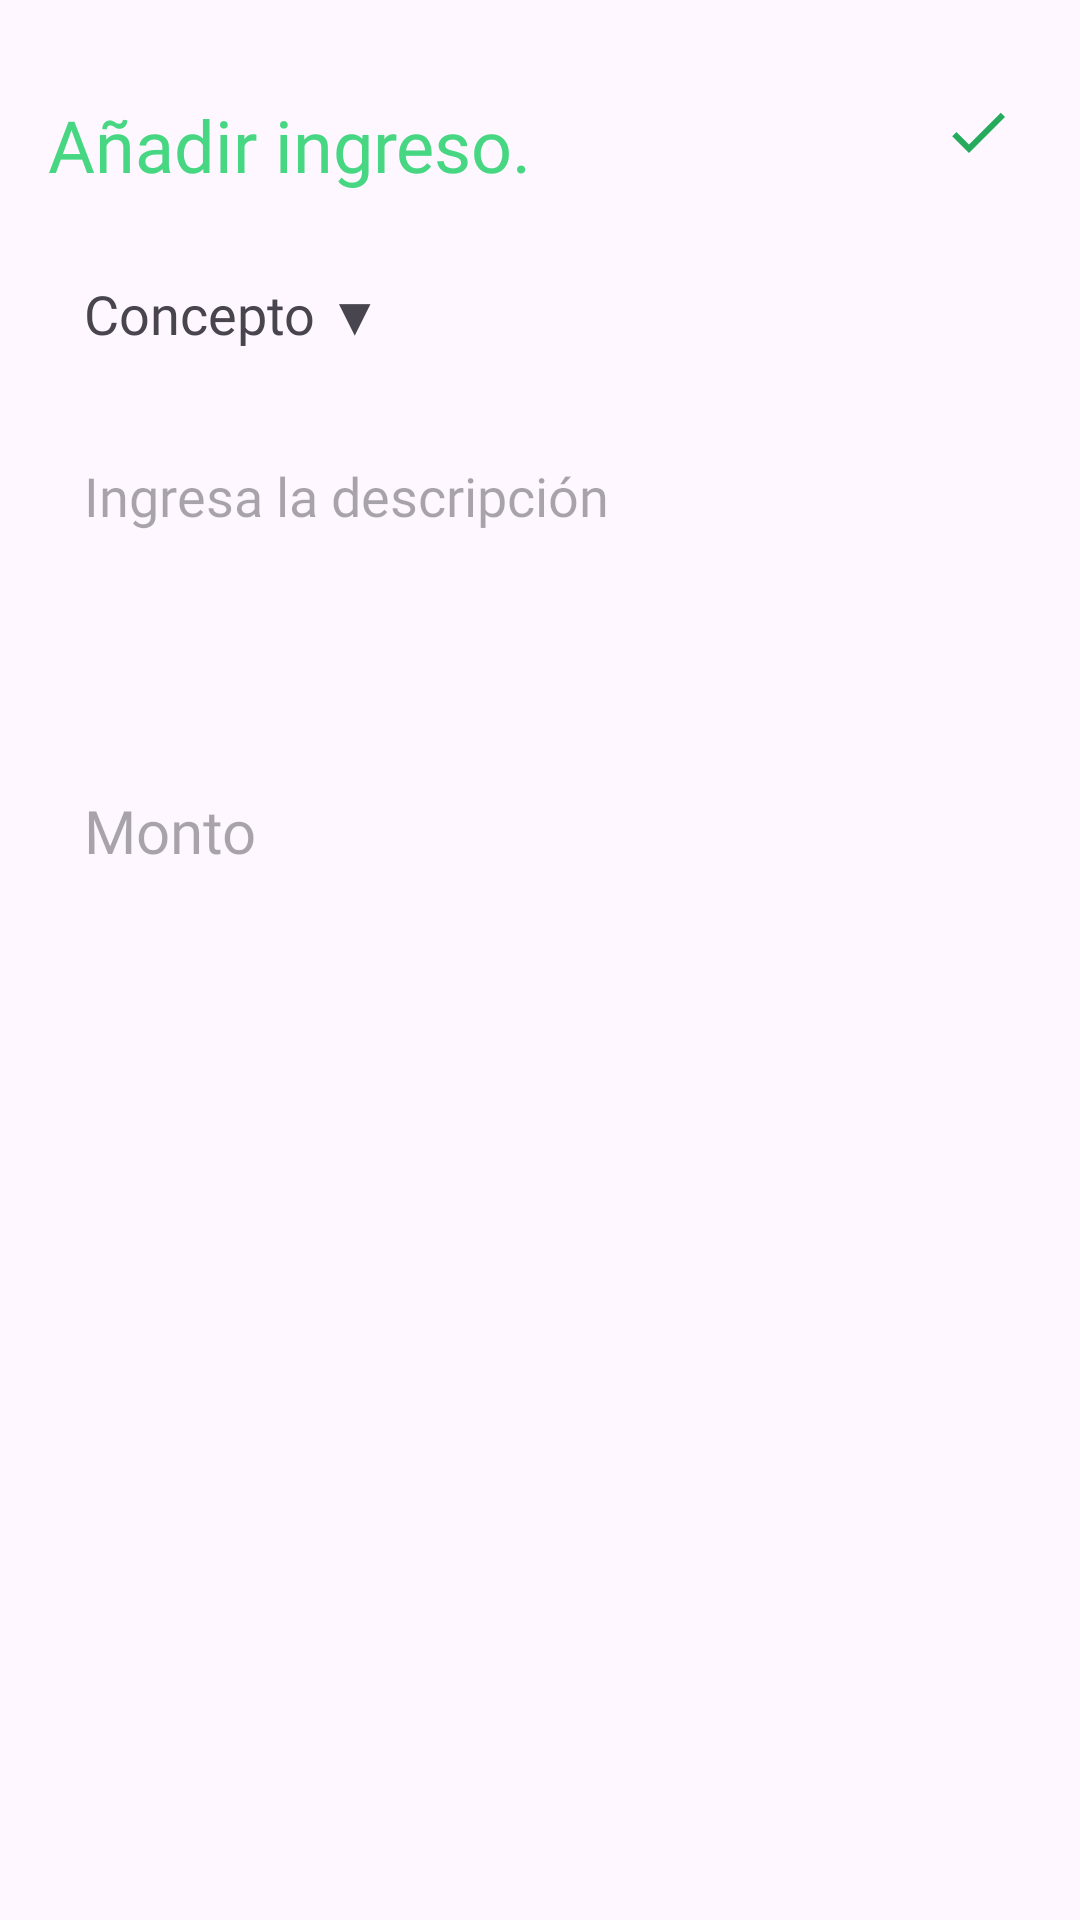

Icon click points for this 1080px×1920px phone screenshot, format point (x, y):
done: point (978, 133)
